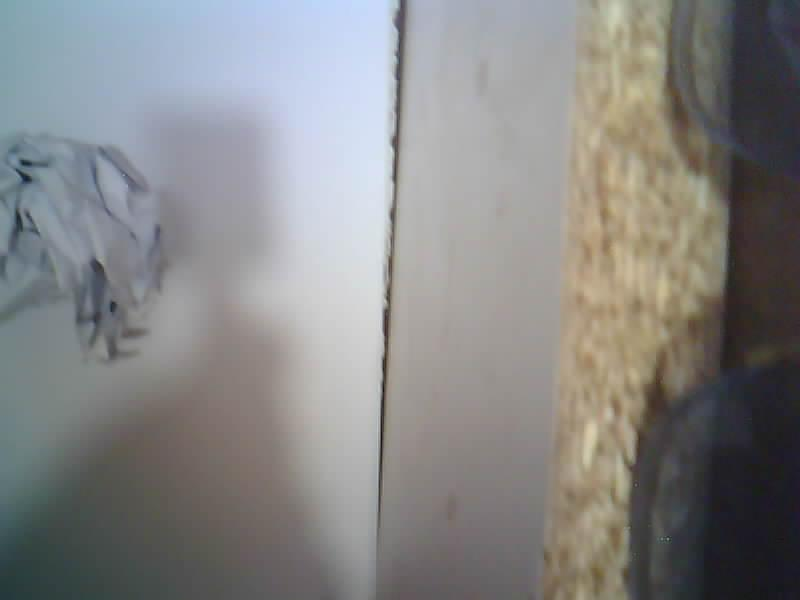biodegradable: (0, 133, 162, 360)
